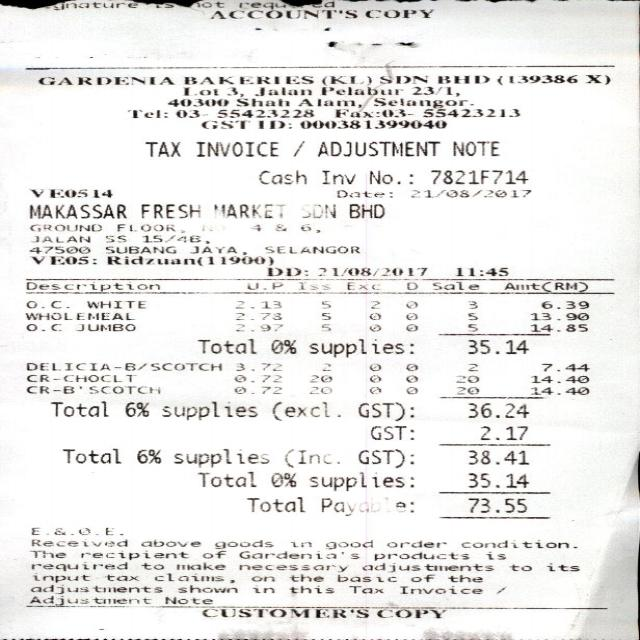text: (308, 470, 410, 490), (315, 140, 437, 156), (307, 338, 403, 357), (160, 401, 255, 419), (172, 448, 267, 466), (105, 255, 271, 265), (200, 607, 366, 617), (28, 202, 125, 218), (26, 362, 220, 370), (318, 496, 403, 514), (22, 594, 148, 606), (208, 8, 354, 18), (429, 169, 526, 184), (20, 282, 159, 292), (270, 400, 338, 420), (27, 584, 160, 594), (360, 562, 490, 572), (194, 141, 276, 156), (298, 120, 445, 128), (36, 76, 172, 84), (317, 265, 425, 275), (358, 401, 412, 421), (358, 448, 412, 468), (282, 448, 338, 467), (180, 76, 312, 84), (458, 539, 575, 548), (371, 97, 471, 107), (464, 338, 526, 354), (211, 203, 280, 217), (235, 0, 331, 10), (408, 188, 528, 196), (237, 550, 356, 558), (30, 560, 125, 570), (25, 373, 130, 382), (372, 550, 466, 560), (464, 472, 526, 487), (60, 447, 118, 463), (246, 496, 304, 512), (196, 471, 253, 487), (50, 400, 106, 416), (194, 337, 253, 352), (466, 497, 524, 512), (464, 450, 526, 464), (238, 564, 345, 572), (499, 282, 584, 292), (80, 551, 186, 559), (138, 203, 198, 217), (152, 572, 232, 582), (421, 108, 518, 116), (216, 108, 313, 116), (30, 538, 125, 546), (505, 74, 574, 85), (30, 526, 122, 534), (256, 169, 304, 184), (464, 402, 512, 417), (449, 140, 496, 155), (139, 234, 207, 244), (363, 7, 430, 17), (28, 188, 111, 196), (397, 586, 480, 594), (263, 246, 357, 253), (379, 607, 444, 617), (480, 425, 526, 439), (295, 97, 359, 107), (332, 108, 410, 116), (319, 86, 396, 94), (114, 223, 182, 232), (60, 0, 135, 8), (368, 425, 410, 439), (528, 310, 586, 320), (29, 223, 100, 231), (252, 85, 308, 95), (188, 244, 244, 254), (88, 386, 158, 394), (368, 170, 411, 183), (177, 583, 236, 592), (453, 266, 506, 276), (143, 141, 178, 156), (212, 539, 270, 548), (29, 256, 94, 264), (347, 202, 381, 217), (30, 573, 86, 582), (319, 75, 369, 85), (319, 169, 352, 184), (166, 98, 227, 106), (336, 188, 390, 197), (105, 246, 174, 253), (377, 74, 425, 84), (138, 538, 198, 546), (334, 573, 394, 581), (235, 97, 288, 106), (85, 300, 144, 308), (411, 85, 458, 95), (73, 311, 131, 319), (75, 323, 133, 331), (528, 375, 586, 383), (528, 386, 586, 394), (325, 539, 371, 549), (302, 203, 334, 217), (530, 323, 586, 331), (430, 281, 479, 290), (34, 234, 89, 242), (26, 246, 87, 253), (384, 540, 444, 547), (172, 561, 224, 569), (232, 373, 278, 382), (287, 584, 332, 593), (437, 74, 477, 84), (23, 386, 73, 394), (241, 281, 285, 290), (266, 266, 305, 276), (267, 472, 293, 487), (539, 300, 587, 308), (539, 363, 587, 371), (162, 596, 210, 604), (343, 281, 380, 291), (232, 300, 278, 308), (22, 311, 68, 319), (232, 386, 278, 394), (267, 338, 293, 352), (133, 448, 159, 462), (235, 323, 280, 331), (199, 120, 243, 128), (234, 311, 278, 319), (233, 362, 277, 370), (125, 108, 164, 117), (181, 85, 215, 95), (122, 402, 146, 416), (25, 300, 66, 308), (444, 573, 480, 582), (27, 550, 63, 558), (544, 562, 576, 571), (254, 120, 289, 128), (198, 223, 233, 231), (296, 281, 330, 289), (24, 323, 58, 331), (287, 573, 321, 581), (346, 585, 380, 593), (584, 74, 609, 84), (173, 108, 204, 116), (102, 233, 124, 242), (192, 2, 224, 8), (148, 1, 172, 9), (304, 374, 328, 382), (105, 574, 136, 580), (453, 374, 476, 382), (138, 561, 161, 569), (408, 573, 431, 581), (290, 140, 302, 155), (306, 386, 328, 394), (454, 386, 476, 394), (202, 550, 224, 558), (224, 86, 241, 96), (509, 563, 530, 571), (248, 574, 271, 581), (483, 550, 503, 558), (296, 223, 311, 231), (405, 280, 417, 290), (402, 373, 415, 382), (290, 541, 309, 547), (250, 587, 272, 592), (402, 300, 415, 308), (402, 311, 415, 319), (402, 323, 415, 331), (367, 323, 380, 331), (367, 373, 378, 382), (404, 385, 415, 394), (367, 385, 378, 394), (273, 223, 285, 231), (402, 363, 415, 370), (367, 311, 378, 319), (367, 363, 378, 371), (466, 300, 475, 308), (320, 311, 329, 319), (466, 312, 475, 320), (466, 323, 475, 331), (466, 363, 475, 371), (250, 224, 260, 231), (369, 300, 377, 308), (319, 323, 327, 331), (321, 362, 328, 370), (320, 302, 329, 308), (497, 587, 502, 592)
